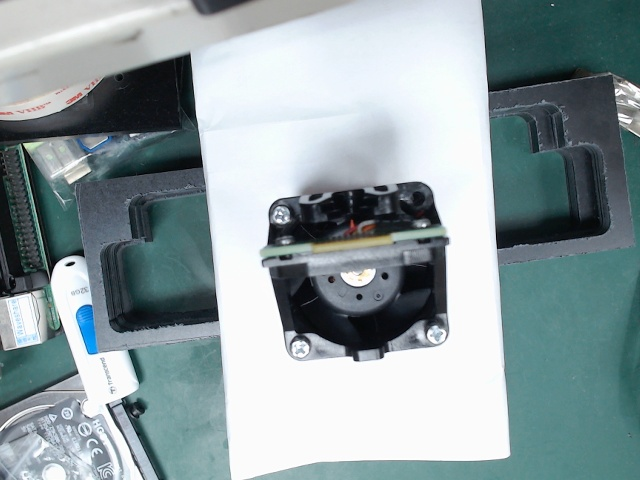Phase1_screw_loose: (415, 318, 471, 361), (264, 194, 301, 232)
